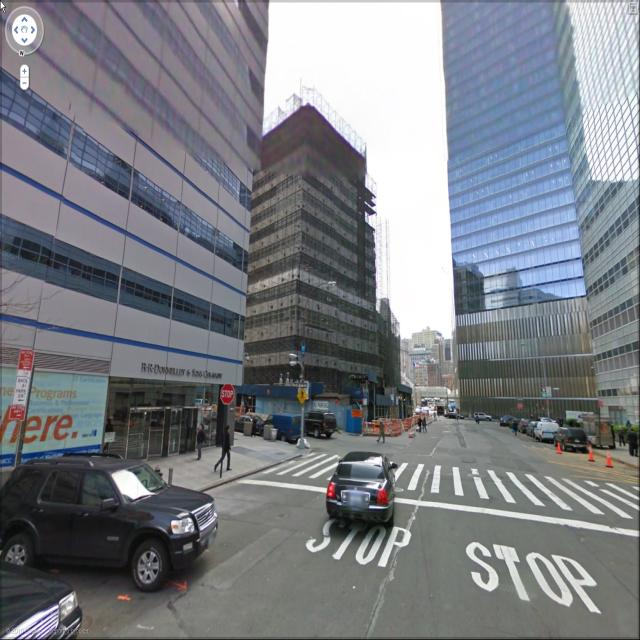b_1: (5, 1, 251, 380), (441, 1, 592, 424), (246, 115, 382, 400), (567, 6, 636, 415)
